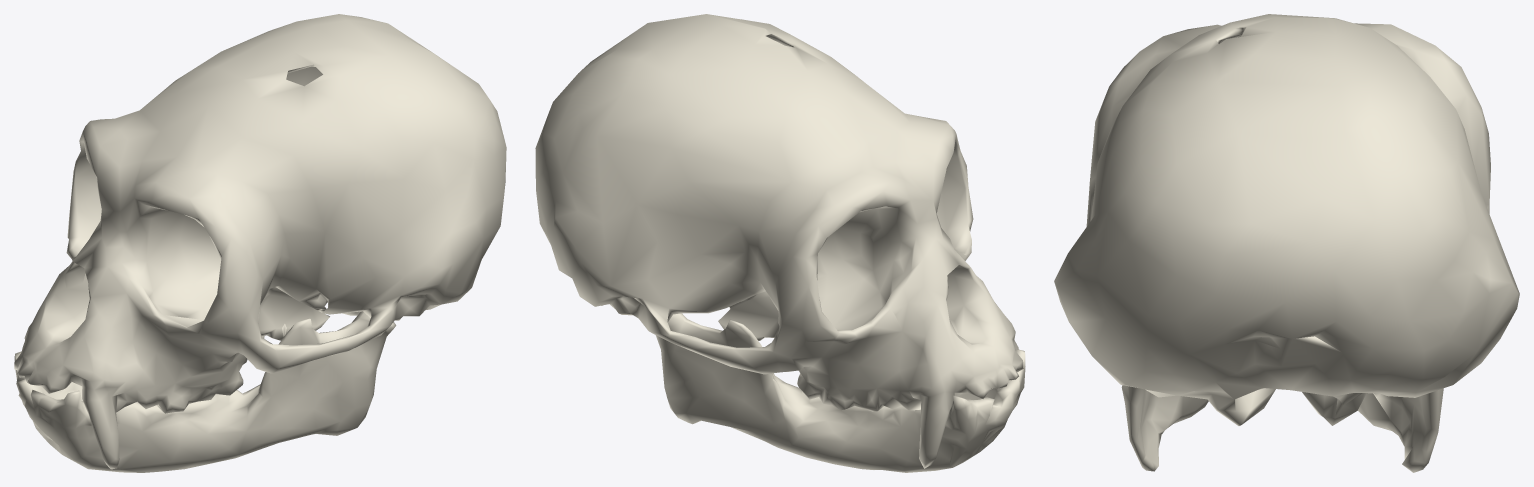
File: gibbonskull.glb
The picture shows the model from 3 angles, left to right: view 1: azimuth 30°, elevation 25°; view 2: azimuth 150°, elevation 25°; view 3: azimuth 270°, elevation 25°; orthographic projection. The views are drawn at different scales.
Visible parts, largest first — view 1: USNM307759_mandible_-400.001; view 2: USNM307759_mandible_-400.001; view 3: USNM307759_mandible_-400.001.
Boxes of the visible parts, x1,y1,x2,y2 form: USNM307759_mandible_-400.001: (14,14,506,472); USNM307759_mandible_-400.001: (535,14,1025,472); USNM307759_mandible_-400.001: (1054,14,1519,472).
Size of the model in its own units: 0.0973 by 0.0755 by 0.0684.
